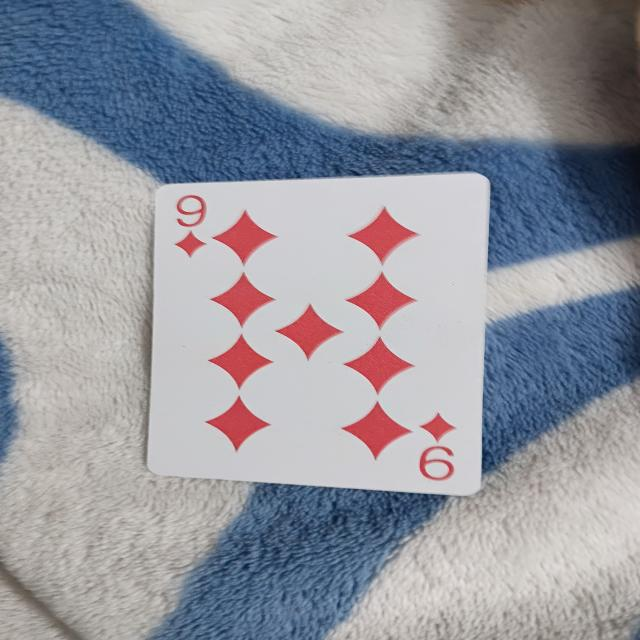9D: (142, 173, 491, 493)
